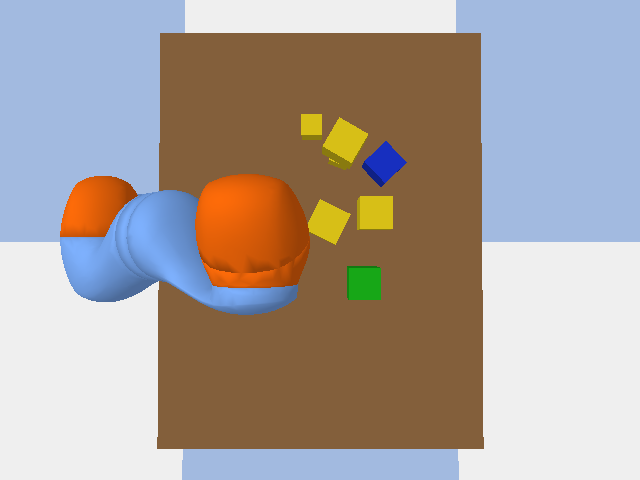blue_obj: (362, 141, 406, 186)
green_obj: (347, 266, 380, 299)
yellow_obj: (322, 117, 367, 168), (308, 199, 350, 244), (357, 196, 392, 229), (301, 114, 321, 139), (328, 158, 346, 169)
